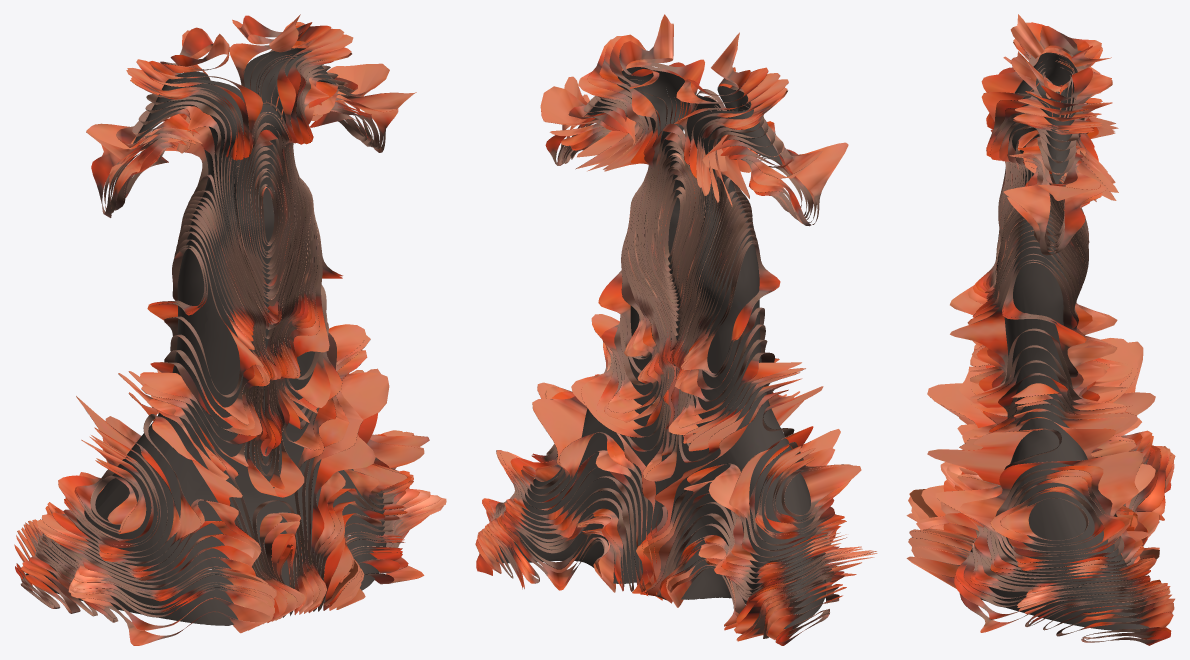
The model's file is Morphellum.glb.
3 renders of one model, left to right at view 1: azimuth 30°, elevation 25°; view 2: azimuth 150°, elevation 25°; view 3: azimuth 270°, elevation 25°, orthographic. The views are drawn at different scales.
Visible parts, largest first — view 1: OPULANCE-DRESS; view 2: OPULANCE-DRESS; view 3: OPULANCE-DRESS.
Part boxes in pixels (x1,y1,x2,y2): OPULANCE-DRESS: (14, 14, 446, 645); OPULANCE-DRESS: (475, 14, 877, 645); OPULANCE-DRESS: (906, 14, 1175, 645).
Size of the model in its own units: 1.21 by 1.73 by 0.7731.
1 material, 1 textured.
